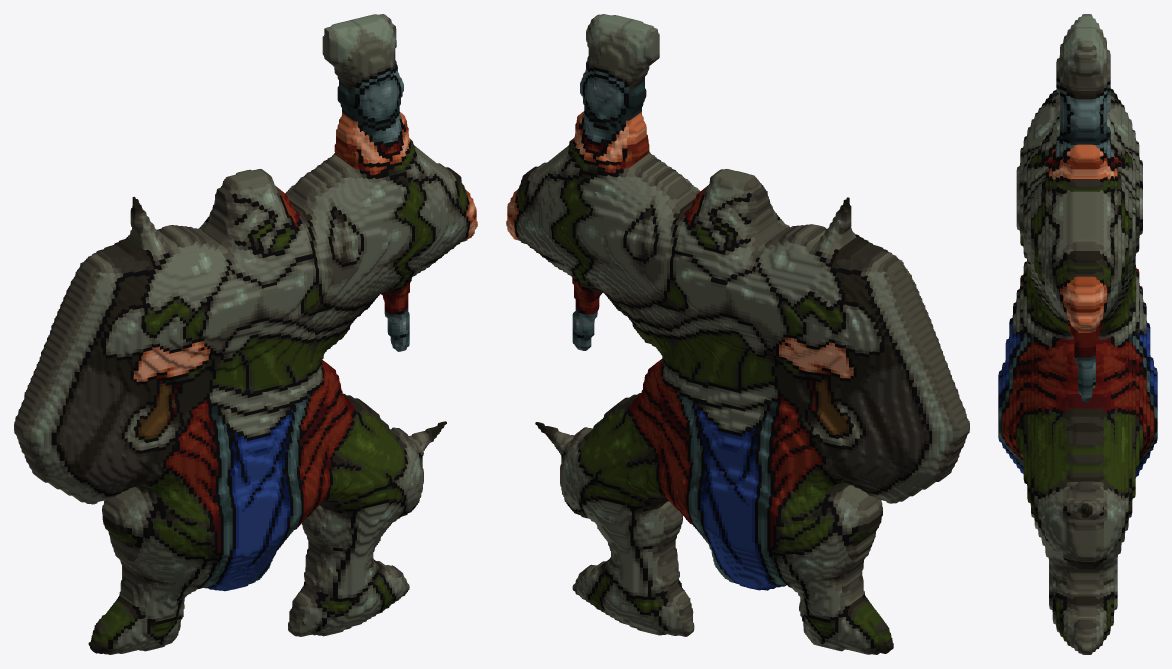
Rendered from Fight_216_2_02.obj.
The picture shows the model from 3 angles, left to right: view 1: azimuth 30°, elevation 25°; view 2: azimuth 150°, elevation 25°; view 3: azimuth 270°, elevation 25°; orthographic projection. The views are drawn at different scales.
Bounding box in the file's own units: 15.1 × 19 × 4.4.
Materials: 1 (1 with a texture image).
